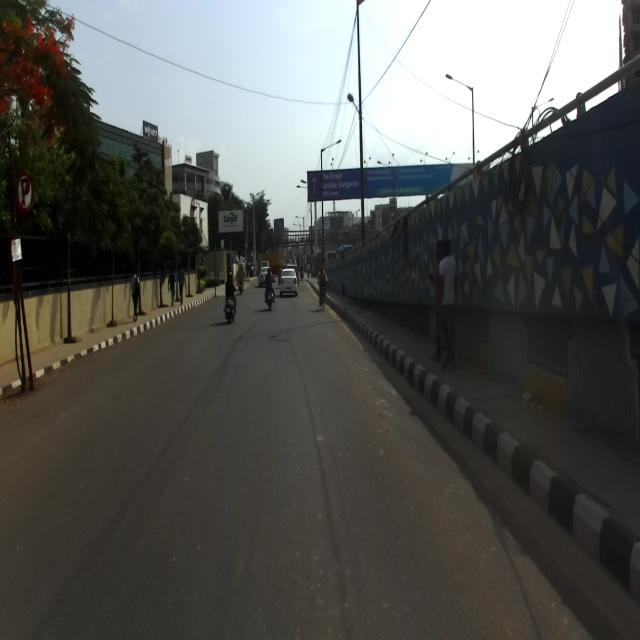person ahead at: (428, 238, 460, 374)
sign board ahead at: (13, 167, 40, 215)
